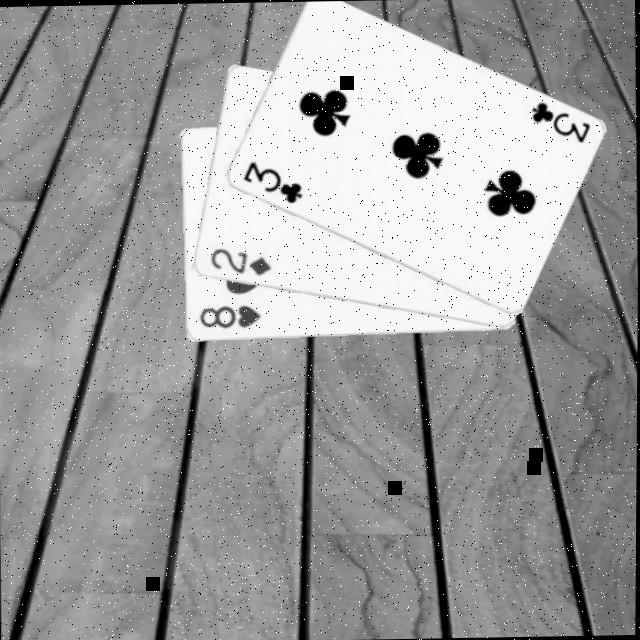2D: (205, 246, 272, 281)
3C: (236, 157, 303, 208), (526, 99, 592, 148)
8H: (195, 302, 263, 333)
